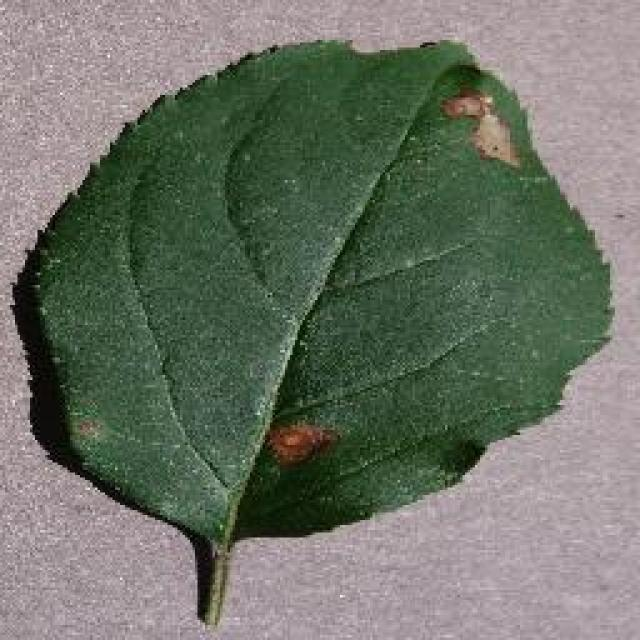apple black rot: (7, 35, 615, 625)
